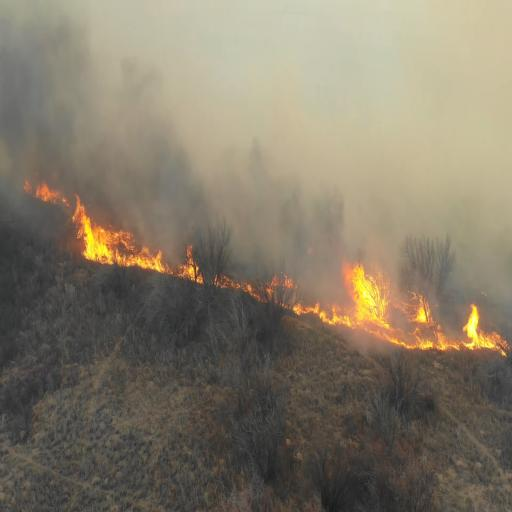fire: (72, 217, 131, 269), (348, 263, 390, 335), (458, 311, 502, 351)
smoke: (0, 0, 98, 174), (109, 64, 212, 203), (251, 144, 347, 261)
